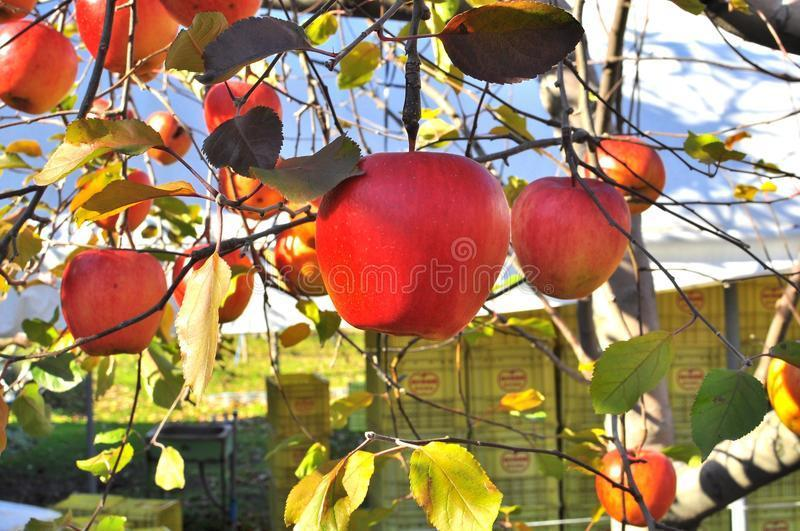apple: (312, 154, 522, 340), (507, 173, 634, 306), (61, 249, 175, 358), (74, 1, 181, 77), (1, 17, 80, 116), (574, 137, 668, 212), (595, 445, 675, 527), (173, 242, 252, 321), (200, 80, 285, 136), (272, 215, 329, 298)
